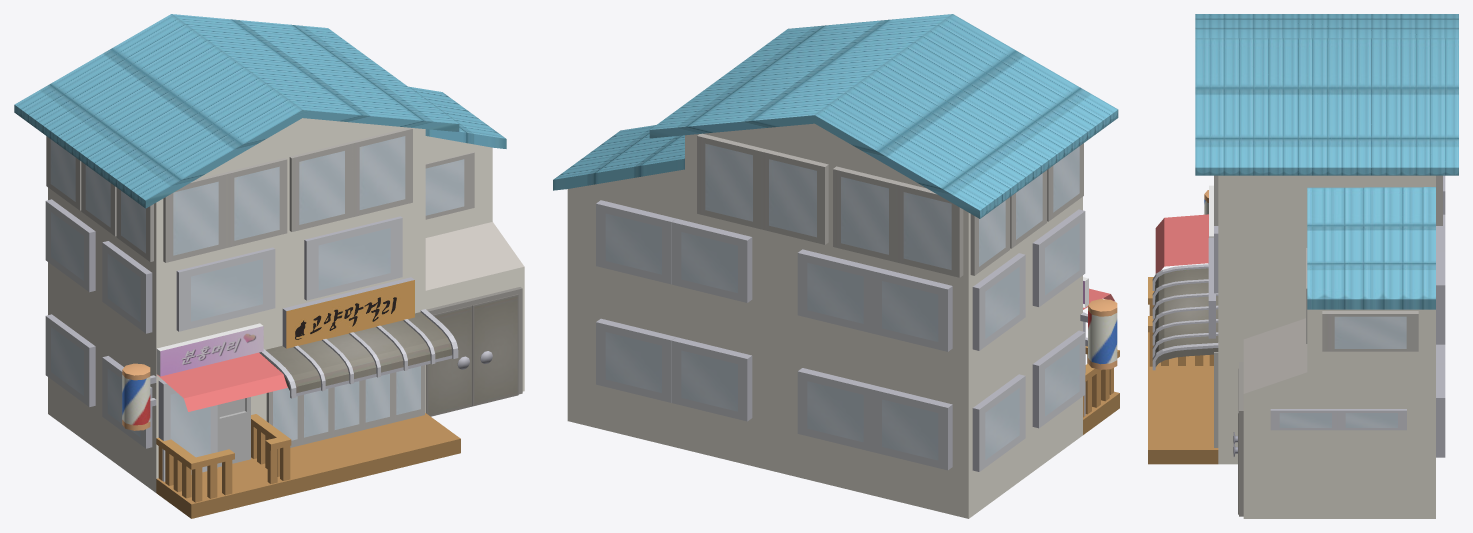
Rendered from Building_House_04.FBX.
3 renders of one model, left to right at view 1: azimuth 30°, elevation 25°; view 2: azimuth 150°, elevation 25°; view 3: azimuth 270°, elevation 25°, orthographic. The views are drawn at different scales.
Parts seen in each view (by area): view 1: Box034; view 2: Box034; view 3: Box034.
Part boxes in pixels (x1,y1,x2,y2): Box034: [14, 14, 524, 518]; Box034: [553, 14, 1119, 518]; Box034: [1148, 14, 1458, 518].
Bounding box in the file's own units: 219 × 138 × 176.
